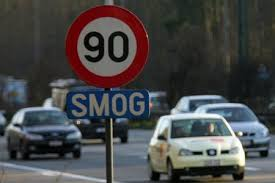Speed_limit_90km: (64, 6, 150, 87)
car: (145, 114, 245, 183), (4, 105, 87, 162)
